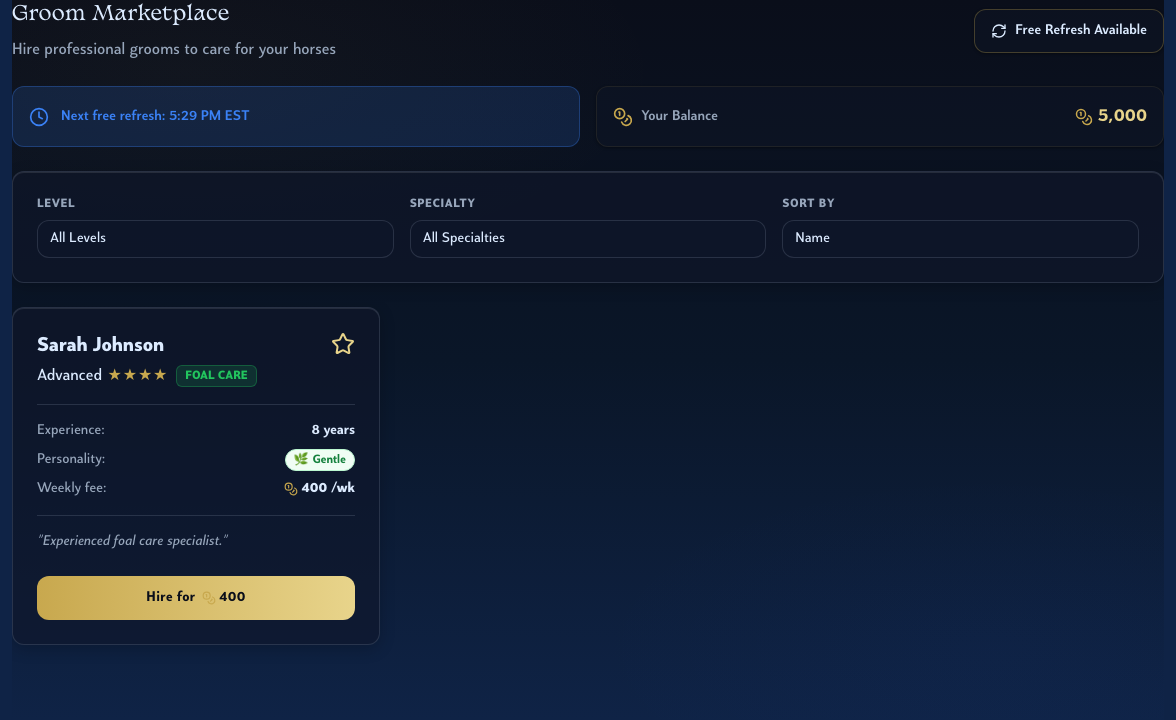
GroomList — refusal codes (Equoria-dosig) › a full roster is named as a full roster, on the card, with no server text
The image size is (1176, 720).
Click the button with aria-label "hire sarah johnson" at (196, 598), box [37,576,355,620]
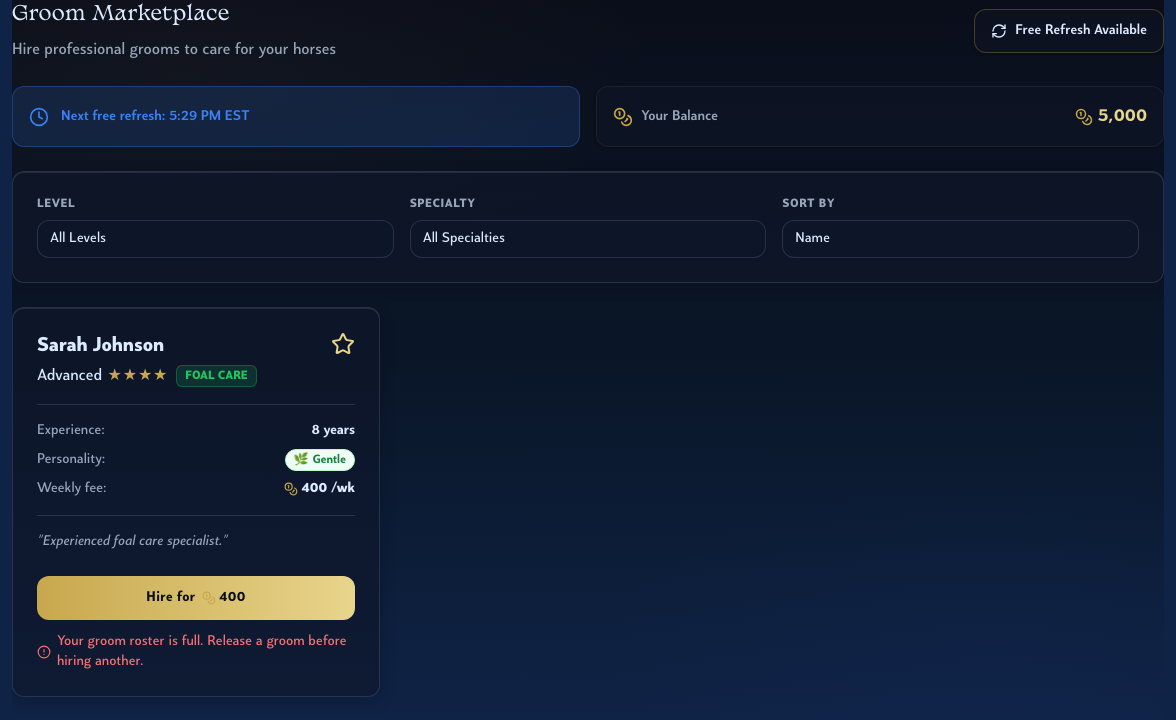
Check: the message shows "groom roster is full", box [57,634,347,669]
